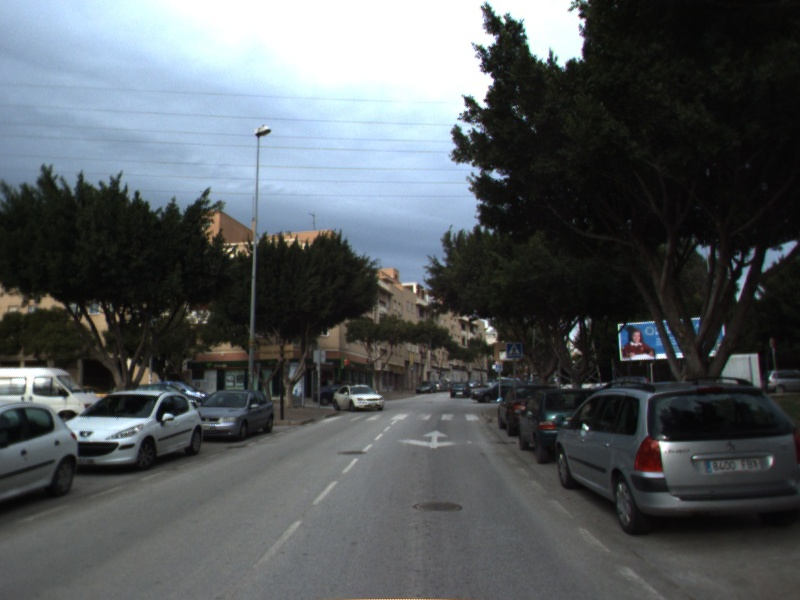STRAIGHT_LEFT_RIGHT: (395, 428, 474, 450)
